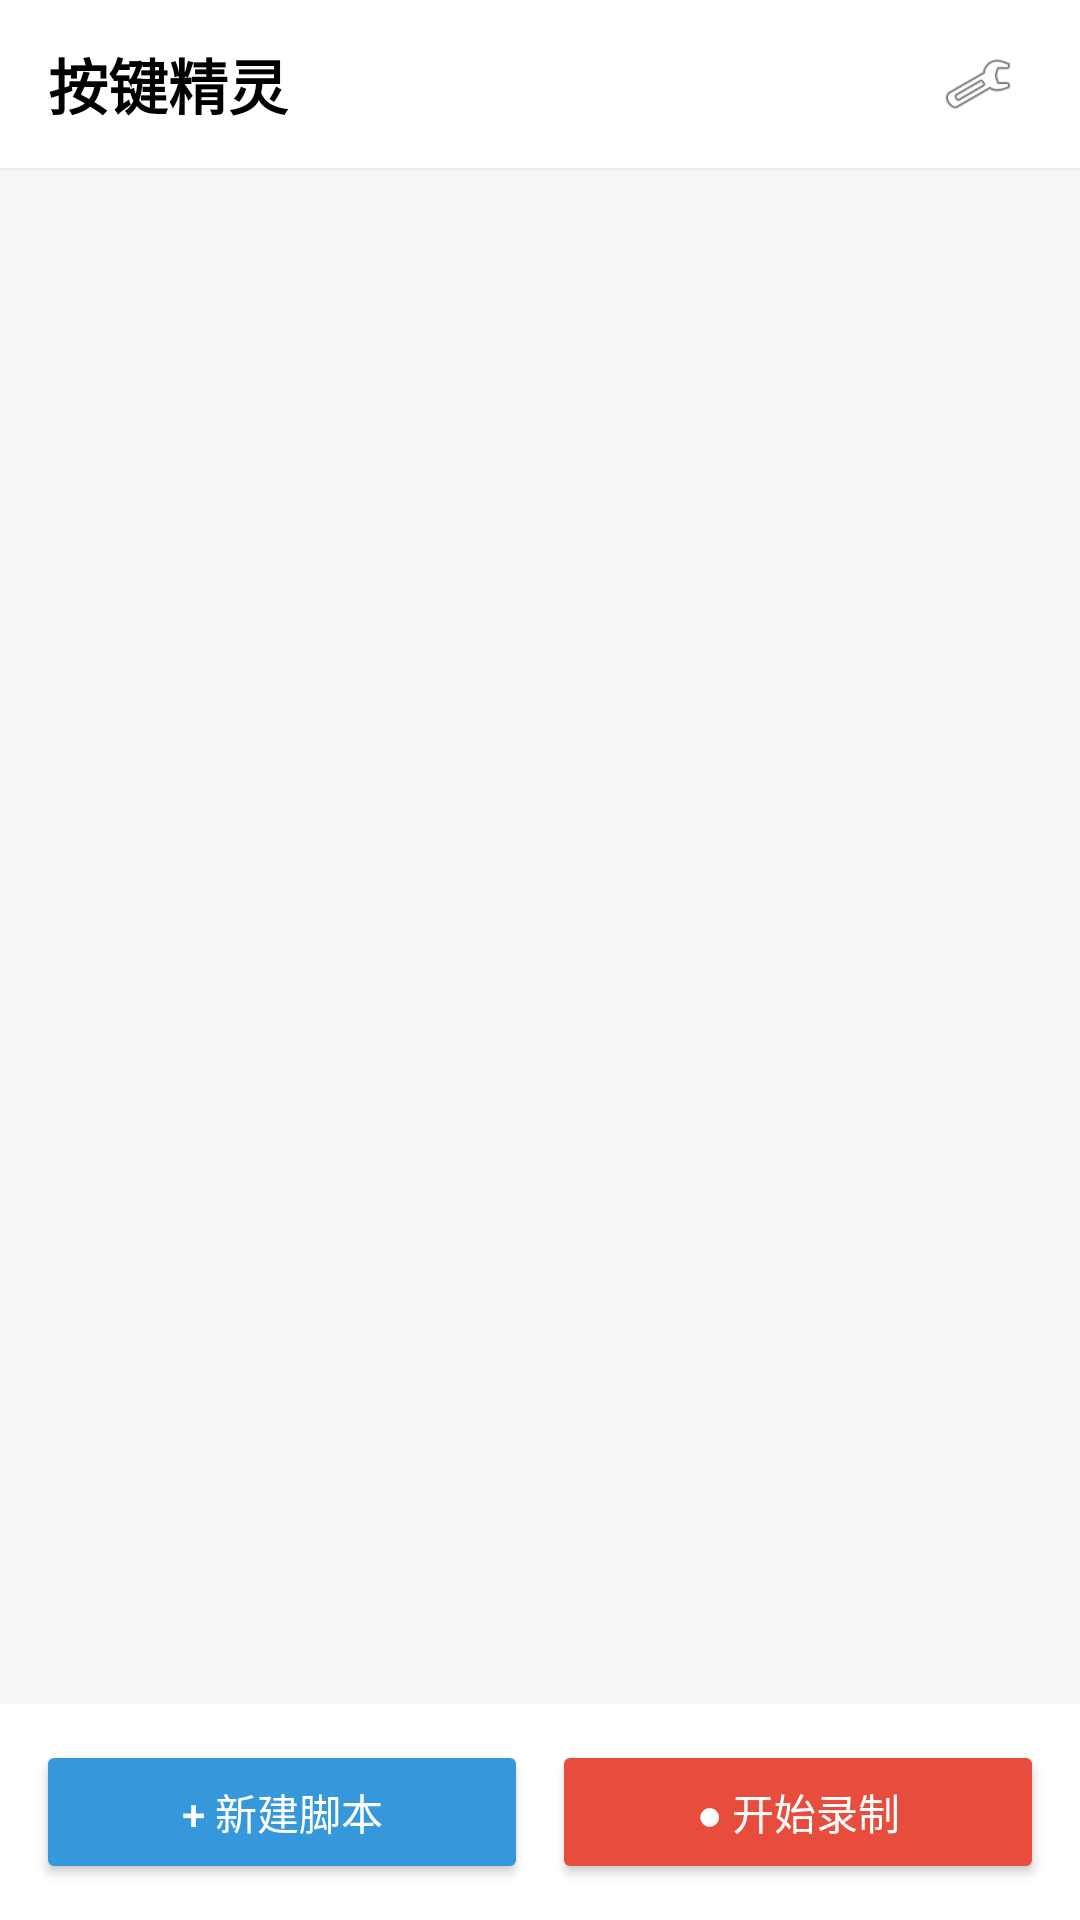

Where to tap for icons on this 1080 x 1920 app screen, as [x,y]:
设置: [977,84]
